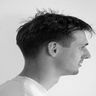ear: (43, 36, 63, 61)
